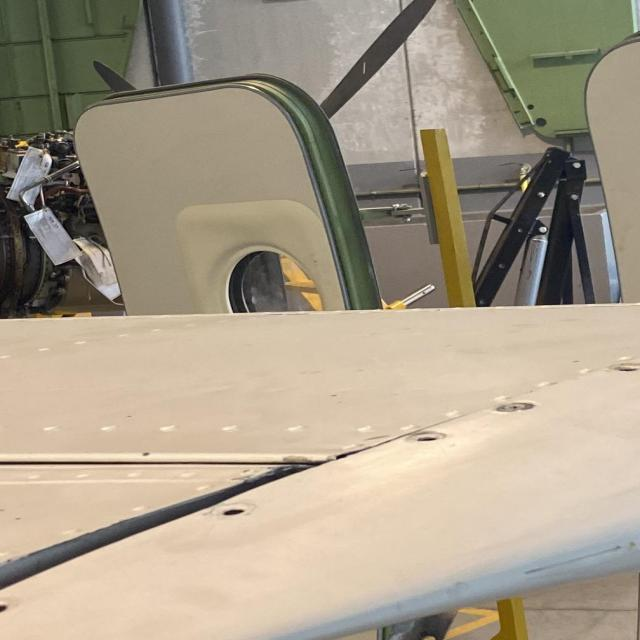Fastener Damage: (412, 424, 450, 447), (609, 359, 640, 377), (216, 506, 260, 518), (0, 598, 13, 615)
